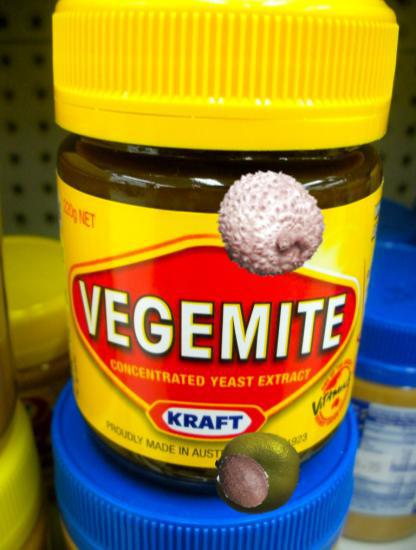Cocos: (214, 451, 273, 510)
Lychee: (214, 166, 328, 280)
Pomelo: (214, 430, 302, 518)
